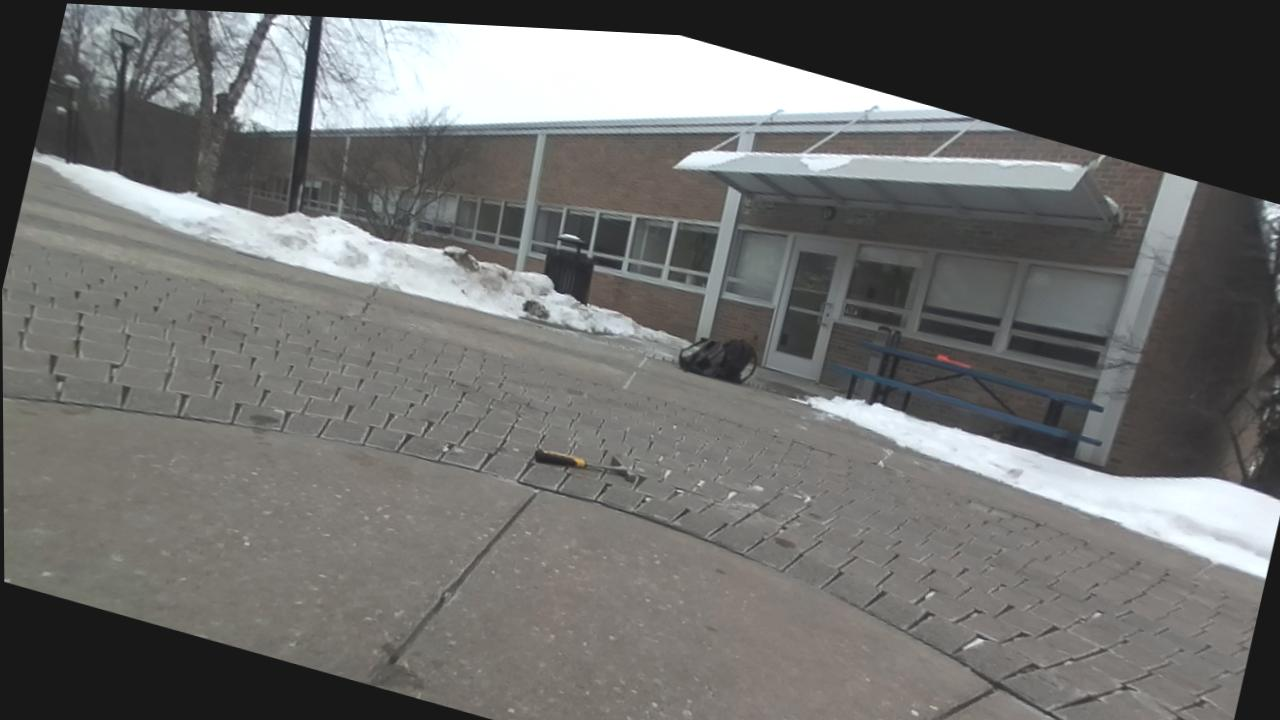pick: (532, 450, 637, 480)
